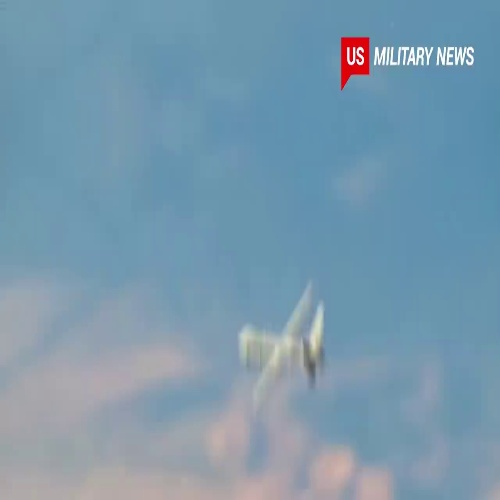uav: (236, 276, 333, 407)
